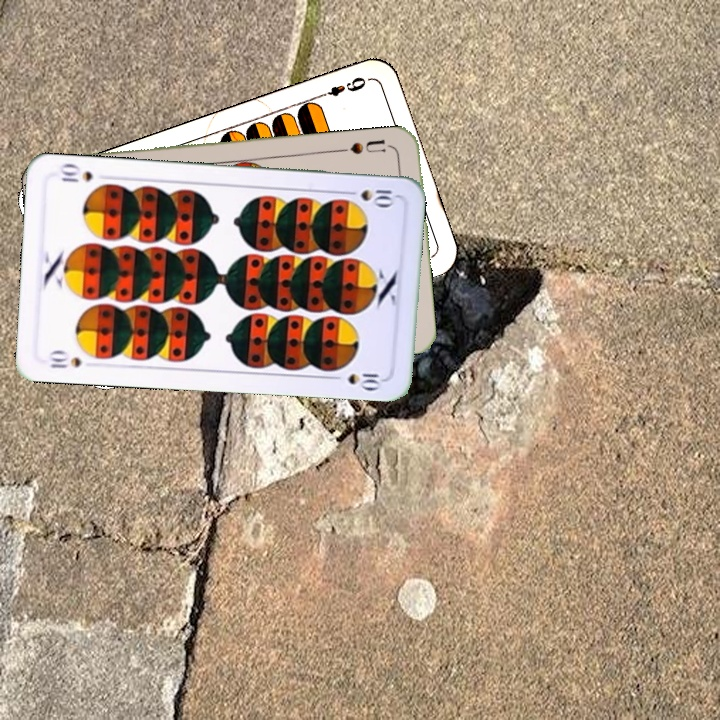E9: (314, 72, 369, 101)
S10: (340, 185, 396, 207), (45, 347, 84, 372)
SU: (335, 135, 388, 157)
